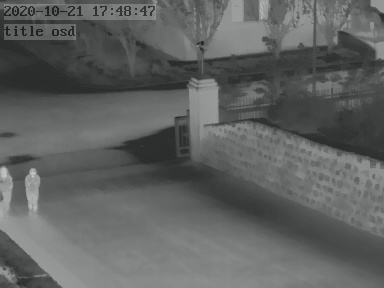person: (24, 165, 41, 214), (1, 162, 15, 216)
